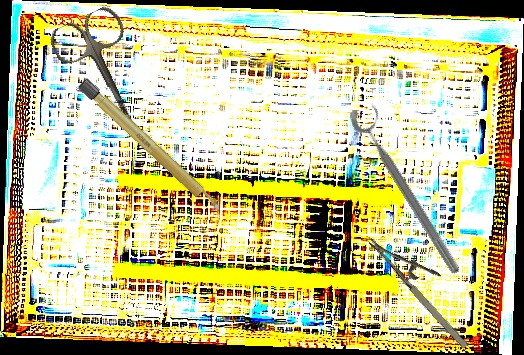Fixation Ring: (345, 98, 475, 279)
Iris Scissors: (46, 2, 169, 155)
Needle Holder: (365, 217, 487, 352)
Scalpel Handle: (76, 77, 226, 218)
